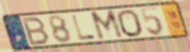5: (139, 5, 165, 37)
8: (48, 14, 73, 44)
B: (21, 16, 51, 47)
L: (71, 14, 97, 42)
M: (89, 9, 126, 42)
O: (116, 8, 145, 38)
